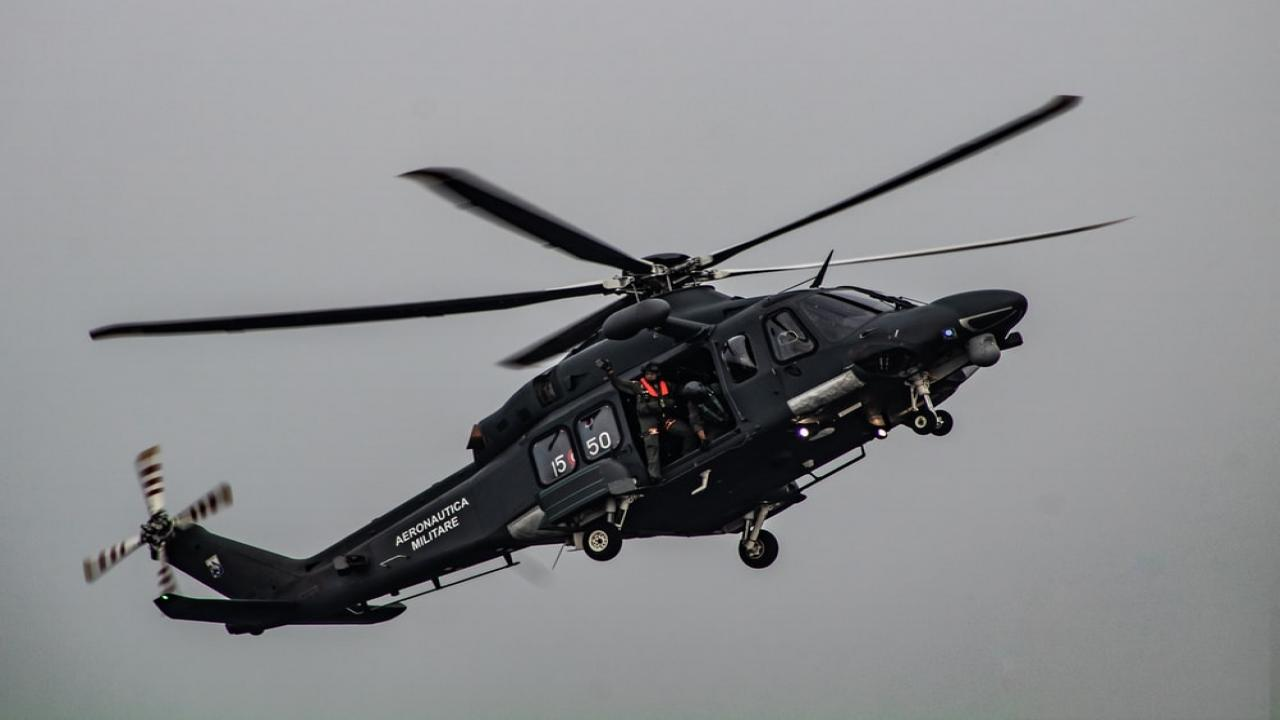Helicopter: (60, 74, 1149, 659)
